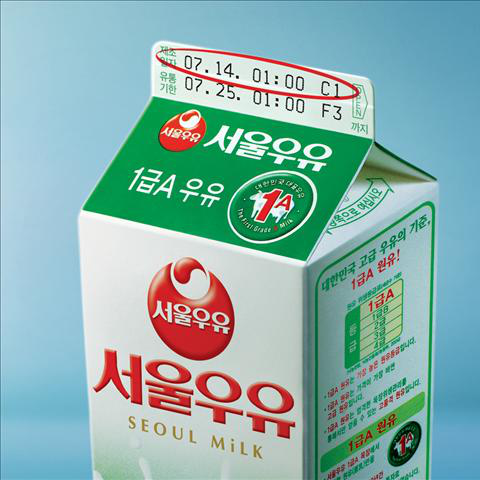milk: (78, 42, 441, 480)
